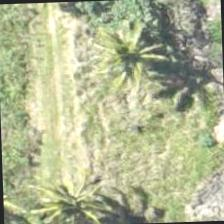Kelapa_Sawit: (85, 0, 179, 91), (35, 175, 128, 223)
